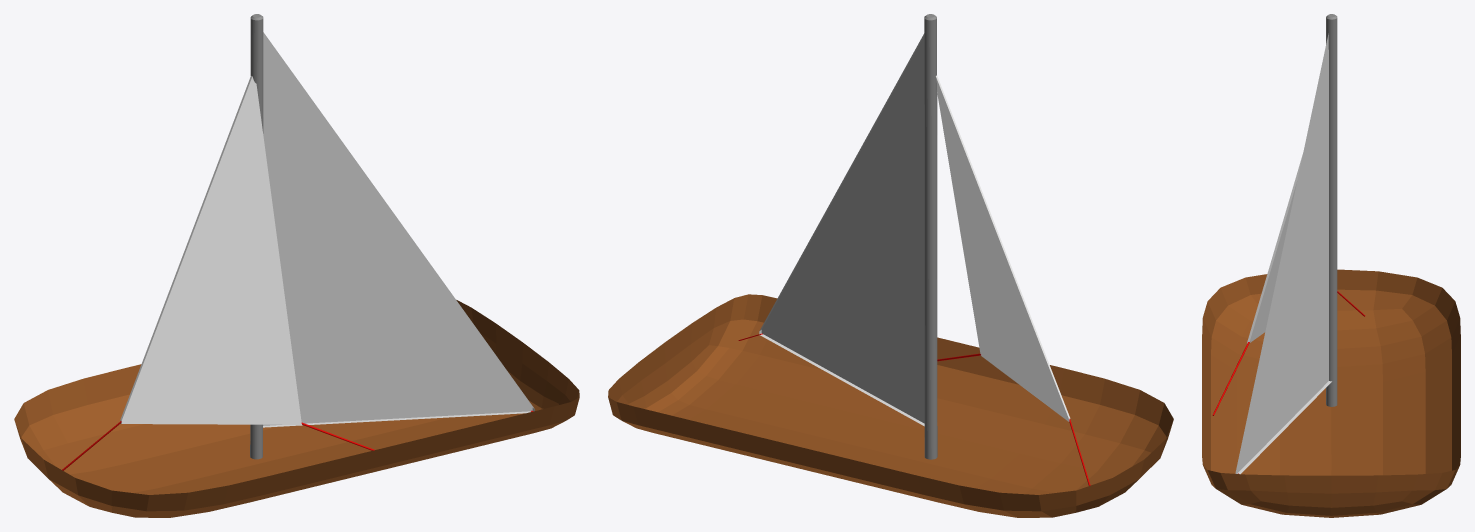
Rendered from sailingboat.glb.
3 views of the same model, side by side, from view 1: azimuth 30°, elevation 25°; view 2: azimuth 150°, elevation 25°; view 3: azimuth 270°, elevation 25° (orthographic). The views are drawn at different scales.
Visible parts, largest first — view 1: Plane, Cube, Plane.001, Circle; view 2: Cube, Plane, Plane.001, Circle; view 3: Cube, Plane, Circle, Plane.001.
Part boxes in pixels (bbox=[...]): Plane: bbox=[263, 32, 534, 427]; Cube: bbox=[14, 300, 579, 517]; Plane.001: bbox=[120, 76, 301, 424]; Circle: bbox=[250, 14, 263, 459]; Cube: bbox=[608, 294, 1173, 517]; Plane: bbox=[759, 33, 924, 426]; Plane.001: bbox=[936, 75, 1070, 421]; Circle: bbox=[924, 14, 937, 459]; Cube: bbox=[1202, 269, 1460, 517]; Plane: bbox=[1235, 33, 1331, 474]; Circle: bbox=[1326, 14, 1337, 406]; Plane.001: bbox=[1247, 154, 1302, 343].
Bounding box in the file's own units: 4.26 × 3.81 × 2.26.
